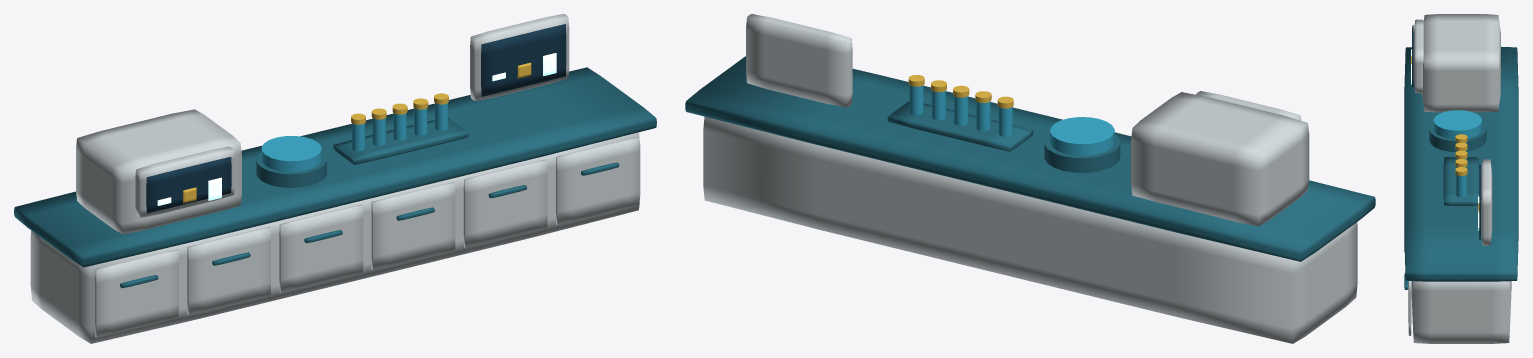
The model's file is laboratorio-banco-analisis.glb.
The picture shows the model from 3 angles, left to right: view 1: azimuth 30°, elevation 25°; view 2: azimuth 150°, elevation 25°; view 3: azimuth 270°, elevation 25°; orthographic projection. The views are drawn at different scales.
Parts seen in each view (by area): view 1: Blanco, Petroleo, Pantalla, Agua, Amarillo, Luz; view 2: Blanco, Petroleo, Agua, Amarillo; view 3: Petroleo, Blanco, Agua, Amarillo, Pantalla.
Boxes of the visible parts, x1=… form: Blanco: x1=30, y1=14, x2=640, y2=343; Petroleo: x1=14, y1=67, x2=656, y2=288; Pantalla: x1=146, y1=24, x2=566, y2=213; Agua: x1=261, y1=103, x2=447, y2=171; Amarillo: x1=183, y1=62, x2=531, y2=203; Luz: x1=157, y1=53, x2=556, y2=205; Blanco: x1=703, y1=14, x2=1357, y2=343; Petroleo: x1=685, y1=56, x2=1375, y2=261; Agua: x1=909, y1=85, x2=1114, y2=155; Amarillo: x1=908, y1=75, x2=1013, y2=108; Petroleo: x1=1404, y1=46, x2=1518, y2=289; Blanco: x1=1408, y1=14, x2=1511, y2=343; Agua: x1=1433, y1=110, x2=1482, y2=197; Amarillo: x1=1411, y1=56, x2=1479, y2=212; Pantalla: x1=1412, y1=25, x2=1480, y2=239.
Size of the model in its own units: 7.5 by 2.15 by 1.6.
